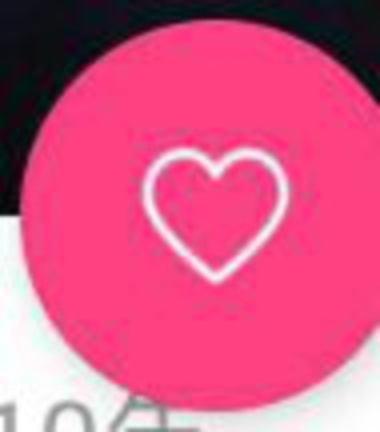ImgButton: (1, 1, 379, 431)
